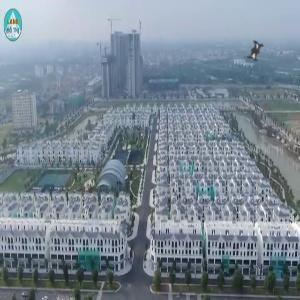drone: (232, 26, 283, 77)
